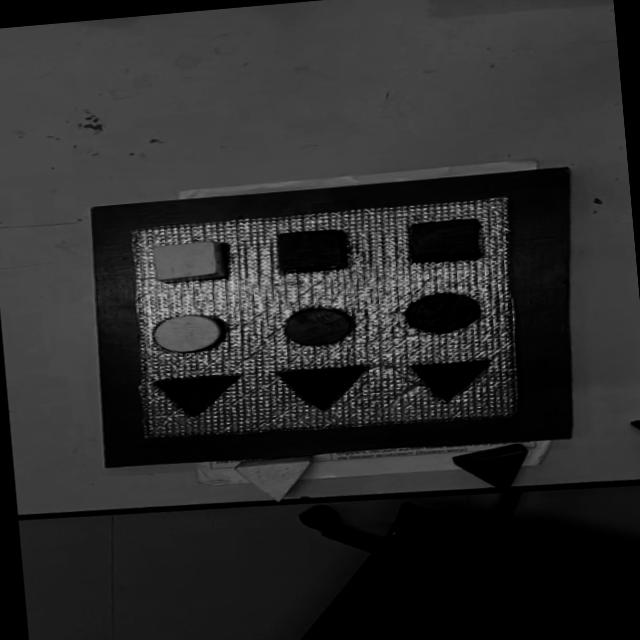bcircle: (401, 289, 485, 336), (407, 217, 482, 264)
mttriangle: (276, 362, 372, 415), (148, 370, 242, 420), (407, 355, 496, 406)
rcircle: (282, 304, 352, 347)
rcube: (274, 227, 348, 274)
rtriangle: (453, 444, 528, 490)
wb: (120, 194, 529, 448)
ycircle: (148, 310, 227, 356)
ycube: (148, 238, 225, 284)
ytriangle: (232, 452, 317, 505)
